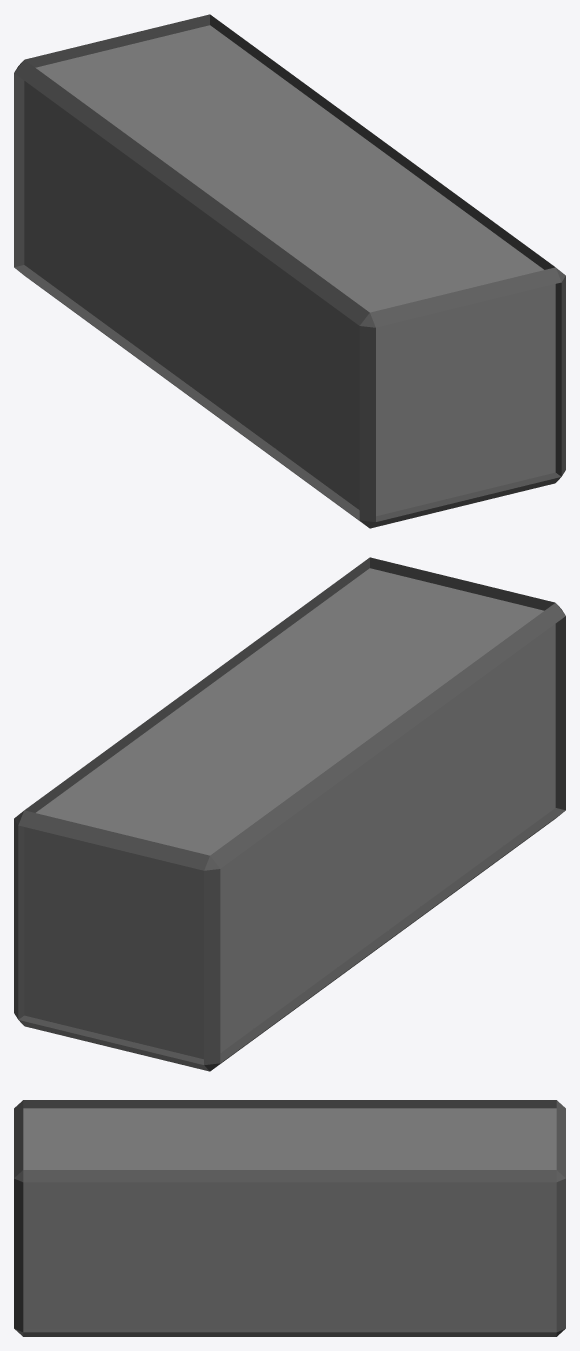
The model's file is Crate_1x3.fbx.
3 views of the same model, one above another, from view 1: azimuth 30°, elevation 25°; view 2: azimuth 150°, elevation 25°; view 3: azimuth 270°, elevation 25° (orthographic). The views are drawn at different scales.
Visible parts, largest first — view 1: Crate_1x3; view 2: Crate_1x3; view 3: Crate_1x3.
Part boxes in pixels (left/top/right/bottom): Crate_1x3: left=14, top=14, right=565, bottom=528; Crate_1x3: left=14, top=557, right=565, bottom=1071; Crate_1x3: left=14, top=1100, right=565, bottom=1336.
Size of the model in its own units: 100 by 100 by 300.
